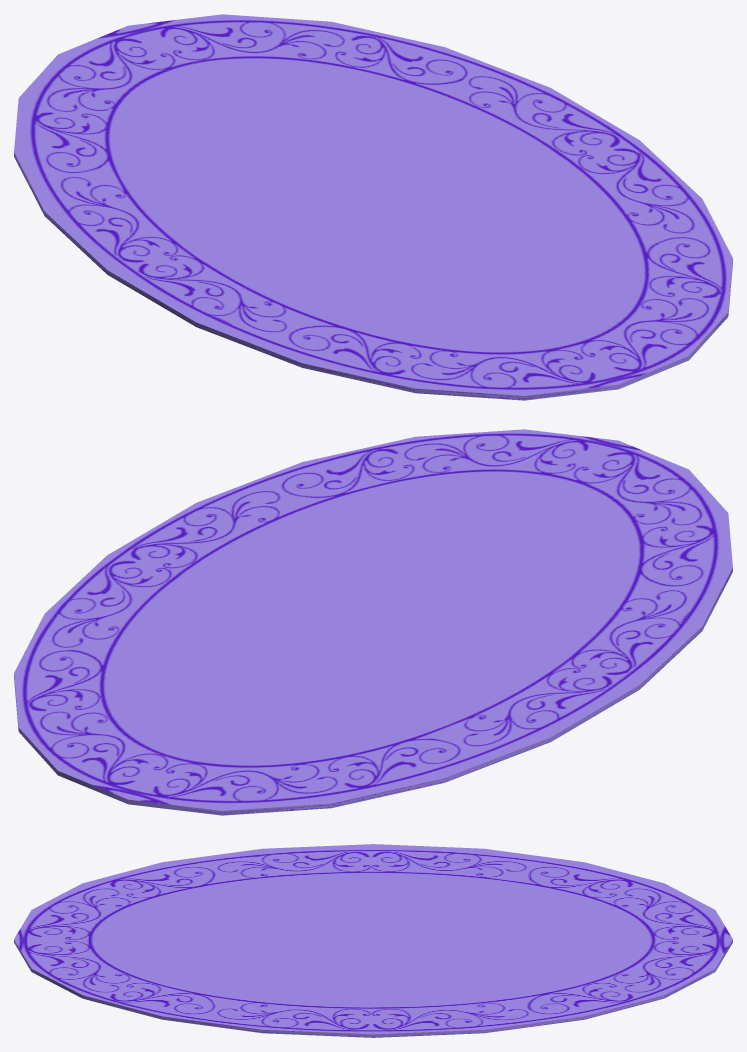
The model's file is rug.fbx.
3 renders of one model, top to bottom at view 1: azimuth 30°, elevation 25°; view 2: azimuth 150°, elevation 25°; view 3: azimuth 270°, elevation 25°, orthographic. The views are drawn at different scales.
Parts seen in each view (by area): view 1: Mesh_pCylinder1; view 2: Mesh_pCylinder1; view 3: Mesh_pCylinder1.
Boxes of the visible parts, box(x1,y1,x2,y2) form: Mesh_pCylinder1: box(14, 14, 732, 400); Mesh_pCylinder1: box(14, 429, 732, 815); Mesh_pCylinder1: box(14, 844, 732, 1037).
Bounding box in the file's own units: 22.98 × 0.1931 × 36.67.
1 material, 1 textured.
